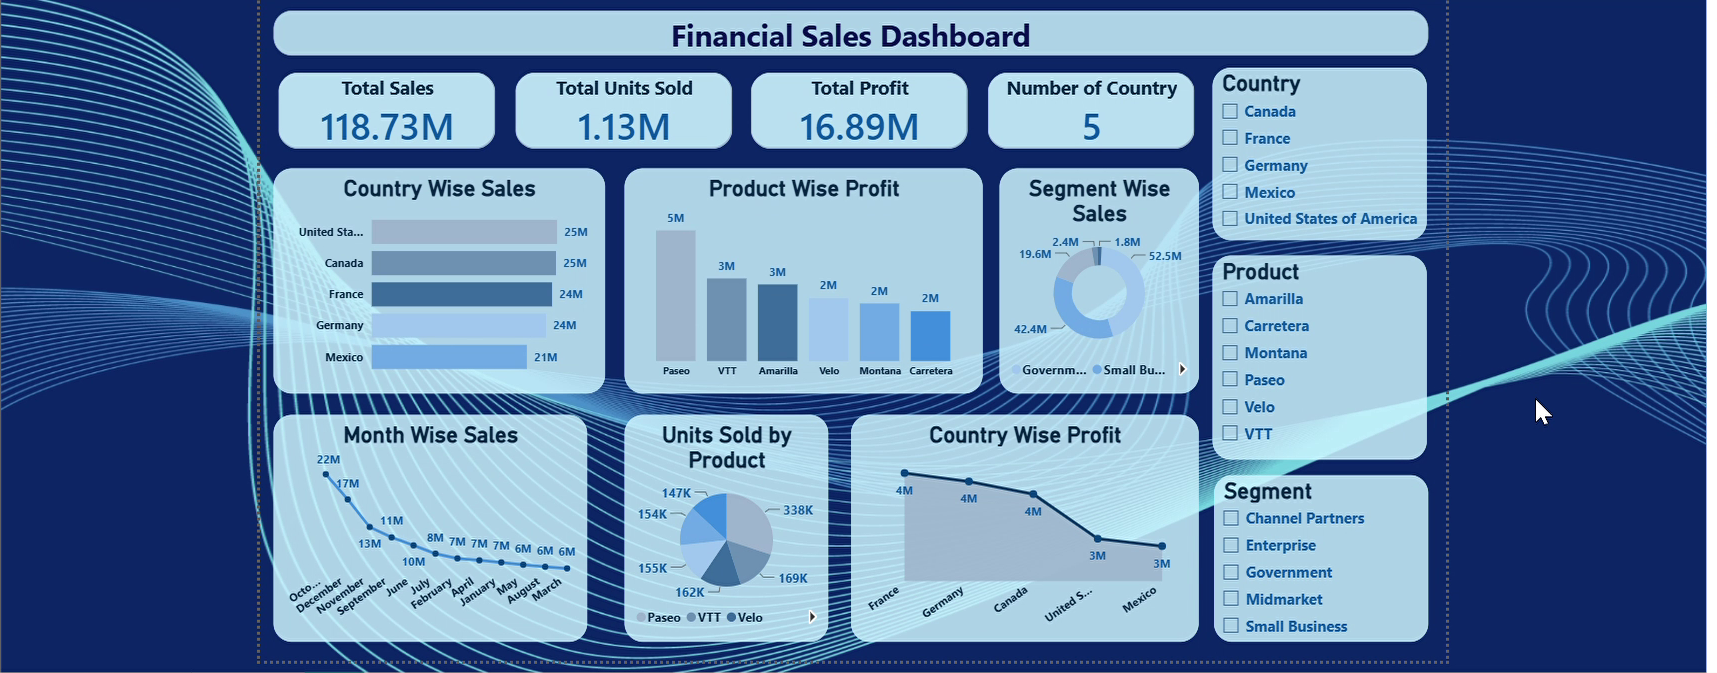

This screenshot's page, from the dashboard's own definition file:
{"tool":"powerbi","page":{"name":"Page 1","canvas":[1280,720],"ordinal":0},"visuals":[{"type":"cardVisual","fields":{"Data":["Sum(financials.Sales)"]},"box":[14.6,81,244.5,92.3],"z":0},{"type":"cardVisual","fields":{"Data":["Sum(financials.Units Sold)"]},"box":[270.4,81,244.5,92.3],"z":1000},{"type":"cardVisual","fields":{"Data":["Sum(financials.Profit)"]},"box":[524.6,81,244.5,92.3],"z":2000},{"type":"cardVisual","fields":{"Data":["Count(financials.Country)"]},"box":[780.5,81,233.2,92.3],"z":3000},{"type":"textbox","box":[14.6,19.4,1246.8,48.6],"z":4000},{"type":"barChart","title":"Country Wise Sales","fields":{"Category":["financials.Country"],"Y":["Sum(financials.Sales)"]},"box":[14.6,189.4,357.8,242.9],"z":5000},{"type":"columnChart","title":"Product Wise Profit","fields":{"Category":["financials.Product"],"Y":["Sum(financials.Profit)"]},"box":[393.5,189.4,387,242.9],"z":6000},{"type":"donutChart","title":"Segment Wise Sales","fields":{"Category":["financials.Segment"],"Y":["Sum(financials.Sales)"]},"box":[798.3,189.4,215.4,242.9],"z":7000},{"type":"lineChart","title":"Month Wise Sales","fields":{"Category":["financials.Month Name"],"Y":["Sum(financials.Sales)"]},"box":[14.6,455,338.4,244.5],"z":8000},{"type":"pieChart","title":"Units Sold by Product","fields":{"Category":["financials.Product"],"Y":["Sum(financials.Units Sold)"]},"box":[393.5,455,220.2,244.5],"z":9000},{"type":"areaChart","title":"Country Wise Profit","fields":{"Category":["financials.Country"],"Y":["Sum(financials.Profit)"]},"box":[638,455,375.7,244.5],"z":10000},{"type":"slicer","fields":{"Values":["financials.Country"]},"box":[1028.2,81,231.5,186.2],"z":11000},{"type":"slicer","fields":{"Values":["financials.Product"]},"box":[1028.2,283.4,231.5,220.2],"z":12000},{"type":"slicer","fields":{"Values":["financials.Segment"]},"box":[1029.8,519.8,231.5,179.7],"z":13000}]}

Visuals, with their boxes in screenshot pixels (x1, y1, x2, y2):
cardVisual - Sum(financials.Sales): box(268, 66, 494, 151)
cardVisual - Sum(financials.Units Sold): box(505, 66, 731, 151)
cardVisual - Sum(financials.Profit): box(740, 66, 966, 151)
cardVisual - Count(financials.Country): box(977, 66, 1192, 151)
textbox: box(268, 9, 1421, 54)
"Country Wise Sales" barChart: box(268, 166, 599, 391)
"Product Wise Profit" columnChart: box(619, 166, 977, 391)
"Segment Wise Sales" donutChart: box(993, 166, 1192, 391)
"Month Wise Sales" lineChart: box(268, 412, 581, 638)
"Units Sold by Product" pieChart: box(619, 412, 822, 638)
"Country Wise Profit" areaChart: box(845, 412, 1192, 638)
slicer - financials.Country: box(1206, 66, 1420, 238)
slicer - financials.Product: box(1206, 253, 1420, 457)
slicer - financials.Segment: box(1207, 472, 1421, 638)
